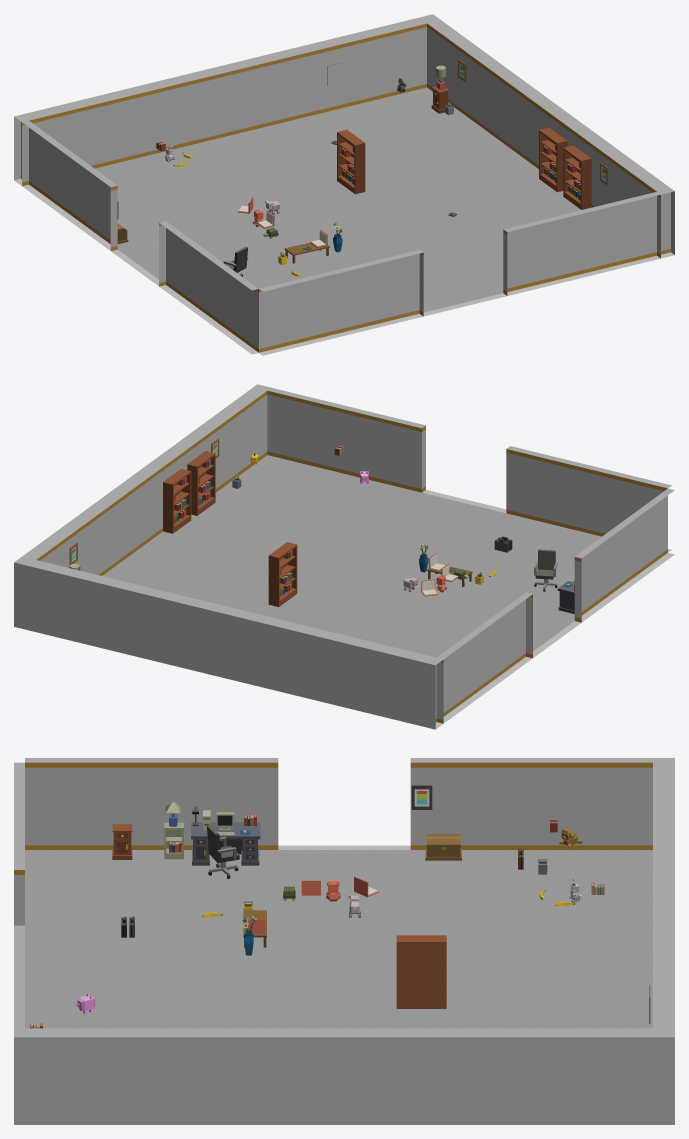
File: bedroom_hub.FBX
3 views of the same model, one above another, from view 1: azimuth 30°, elevation 25°; view 2: azimuth 150°, elevation 25°; view 3: azimuth 270°, elevation 25° (orthographic). The views are drawn at different scales.
Parts seen in each view (by area): view 1: Floor, Room - Inner (×2), InnerWall, InnerWall (1), Room - Lounge-detach (×2), InnerWall (2), InnerWall (3), Prop_Shelf_08 (4), Prop_Shelf_08 (5), Prop_Shelf_08 (3); view 2: Floor, Room - Lounge-detach (×2), InnerWall, Room - Inner, InnerWall (1), InnerWall (2), InnerWall (3), Prop_Shelf_08 (5), Prop_Shelf_08 (3), Prop_Shelf_08 (4), Base Room, Prop_Desk_Chair_Base; view 3: Floor, Room - Lounge-detach (×2), InnerWall (3), InnerWall (2), Prop_Shelf_08 (5), Base Room, InnerWall, Prop_Desk_01, InnerWall (1), Prop_Chest_01, Prop_Cupboard_07 (1), Prop_Desk_Chair_Base (+2 smaller).
Boxes of the visible parts, left/top/right/bottom form: Floor: left=14, top=87, right=674, bottom=355; Room - Inner (×2): left=22, top=23, right=660, bottom=258; InnerWall: left=503, top=191, right=674, bottom=295; InnerWall (1): left=259, top=249, right=423, bottom=352; Room - Lounge-detach (×2): left=14, top=17, right=674, bottom=253; InnerWall (2): left=159, top=221, right=258, bottom=352; InnerWall (3): left=14, top=115, right=117, bottom=250; Prop_Shelf_08 (4): left=563, top=145, right=591, bottom=209; Prop_Shelf_08 (5): left=337, top=130, right=365, bottom=194; Prop_Shelf_08 (3): left=539, top=127, right=567, bottom=192; Floor: left=102, top=455, right=674, bottom=729; Room - Lounge-detach (×2): left=22, top=384, right=443, bottom=729; InnerWall: left=267, top=387, right=425, bottom=492; Room - Inner: left=36, top=391, right=267, bottom=575; InnerWall (1): left=506, top=446, right=671, bottom=536; InnerWall (2): left=574, top=488, right=674, bottom=622; InnerWall (3): left=429, top=592, right=532, bottom=722; Prop_Shelf_08 (5): left=268, top=542, right=297, bottom=606; Prop_Shelf_08 (3): left=163, top=468, right=191, bottom=533; Prop_Shelf_08 (4): left=187, top=451, right=215, bottom=515; Base Room: left=14, top=556, right=35, bottom=629; Prop_Desk_Chair_Base: left=534, top=549, right=557, bottom=579; Floor: left=25, top=845, right=652, bottom=1028; Room - Lounge-detach (×2): left=14, top=758, right=674, bottom=1124; InnerWall (3): left=410, top=758, right=674, bottom=849; InnerWall (2): left=25, top=758, right=278, bottom=849; Prop_Shelf_08 (5): left=396, top=935, right=446, bottom=1008; Base Room: left=653, top=1028, right=674, bottom=1124; InnerWall: left=14, top=925, right=24, bottom=1124; Prop_Desk_01: left=191, top=822, right=260, bottom=865; InnerWall (1): left=14, top=762, right=24, bottom=925; Prop_Chest_01: left=425, top=834, right=461, bottom=860; Prop_Cupboard_07 (1): left=112, top=824, right=132, bottom=859; Prop_Desk_Chair_Base: left=206, top=825, right=239, bottom=862.
Size of the model in its own units: 30000 by 4376 by 30000.
